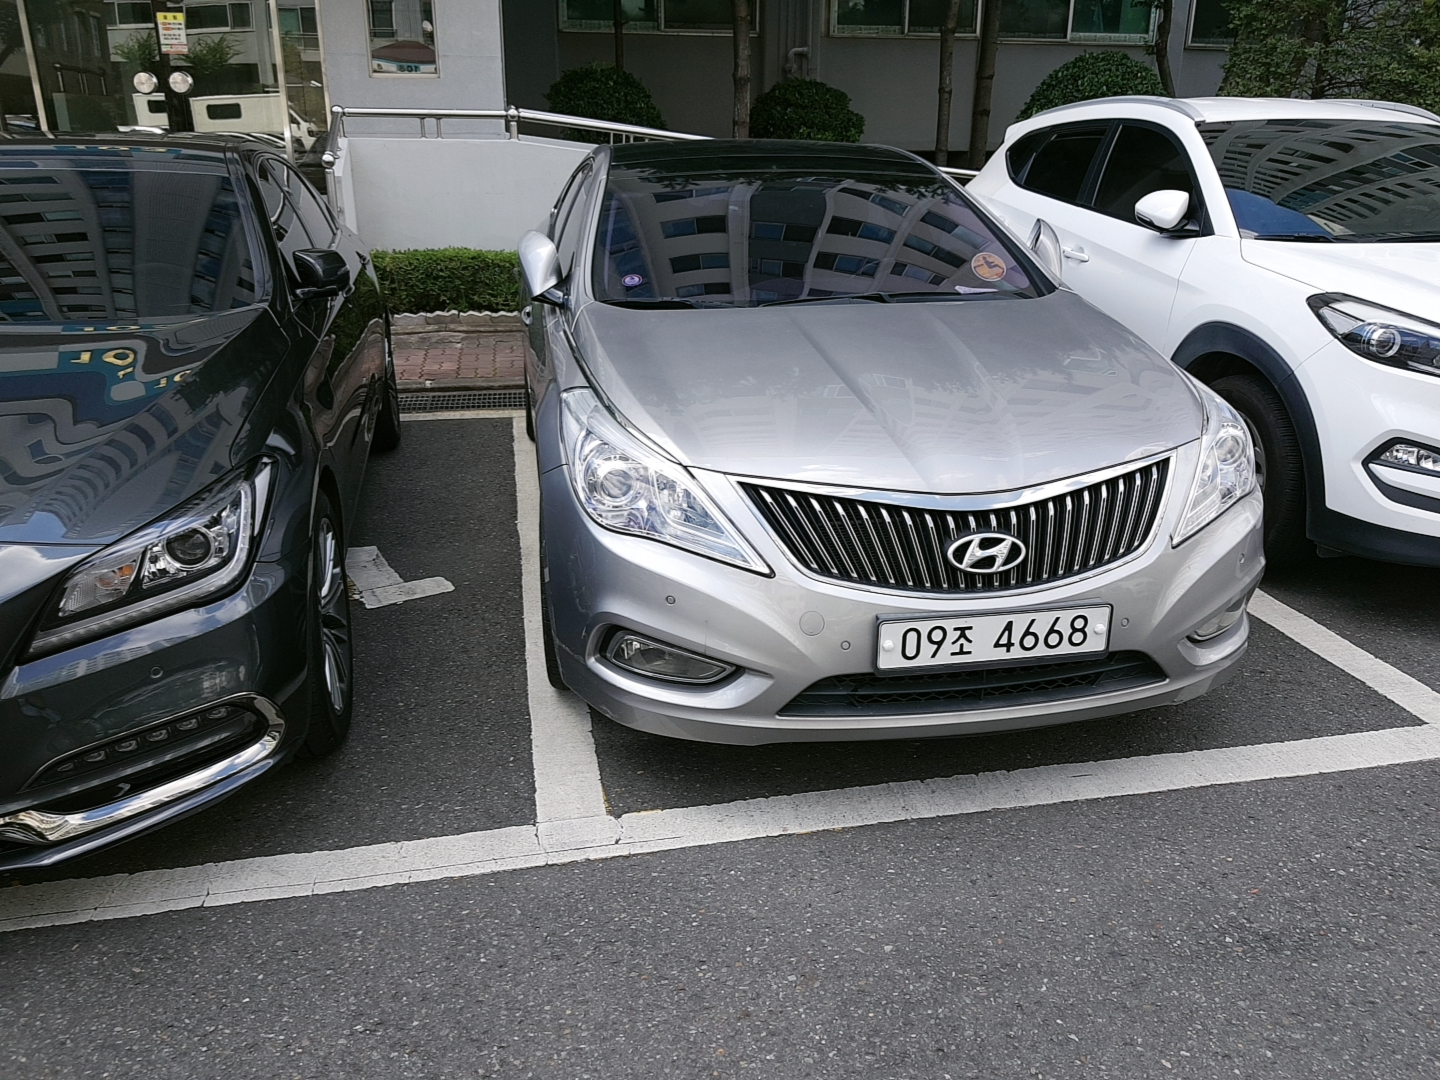apart_parking: (622, 270, 644, 288)
disabled_parking: (968, 248, 1013, 282)
